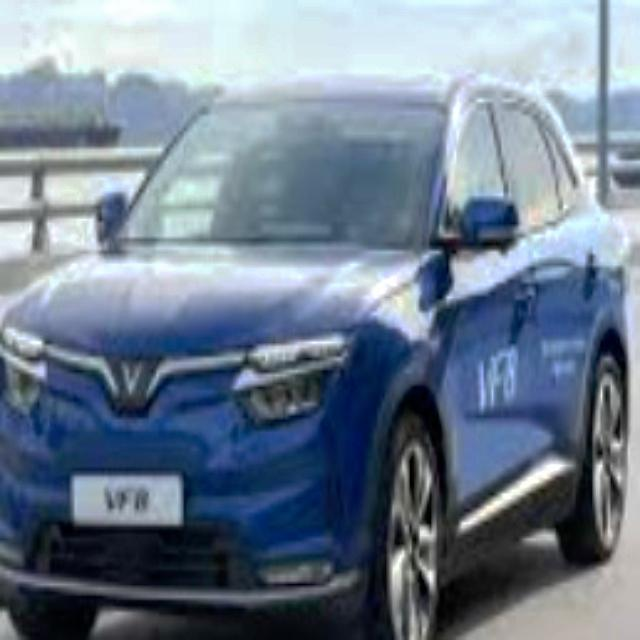Car: (0, 68, 633, 639)
